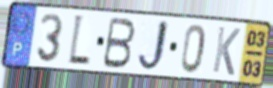0: (180, 24, 208, 75)
3: (35, 12, 65, 64)
B: (100, 16, 137, 71)
J: (135, 18, 171, 75)
K: (211, 25, 242, 78)
L: (66, 12, 92, 69)
